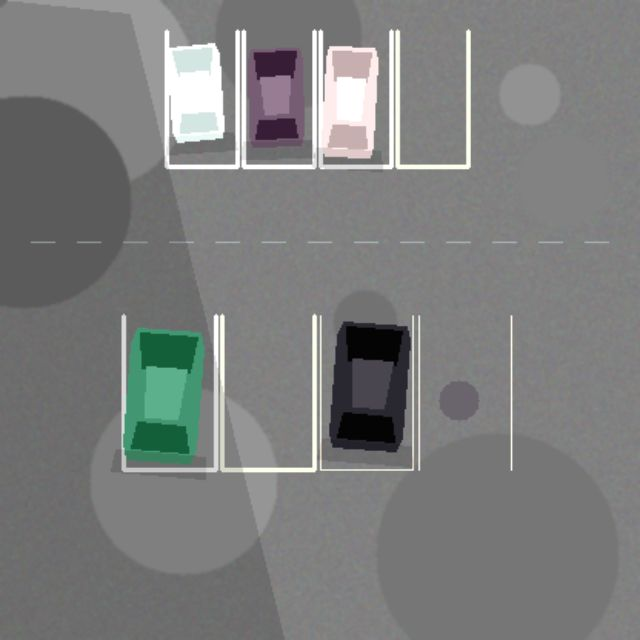space-empty: (418, 315, 511, 469), (222, 315, 314, 469), (397, 31, 468, 166)
space-occupied: (123, 315, 215, 469), (320, 315, 412, 469), (166, 31, 237, 166), (243, 31, 314, 166), (320, 31, 391, 166)
